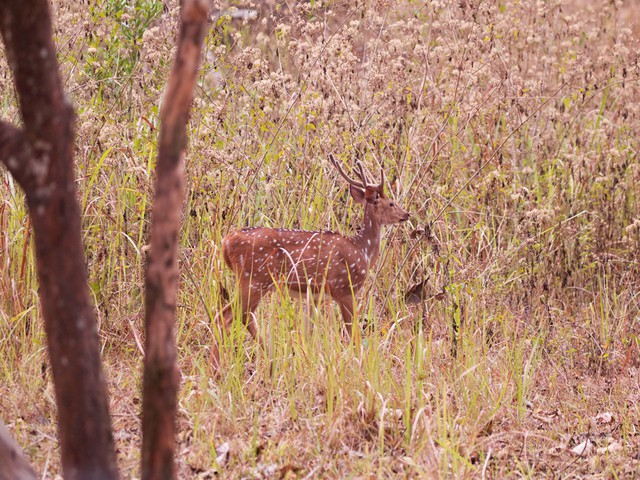deer: (207, 140, 415, 370)
